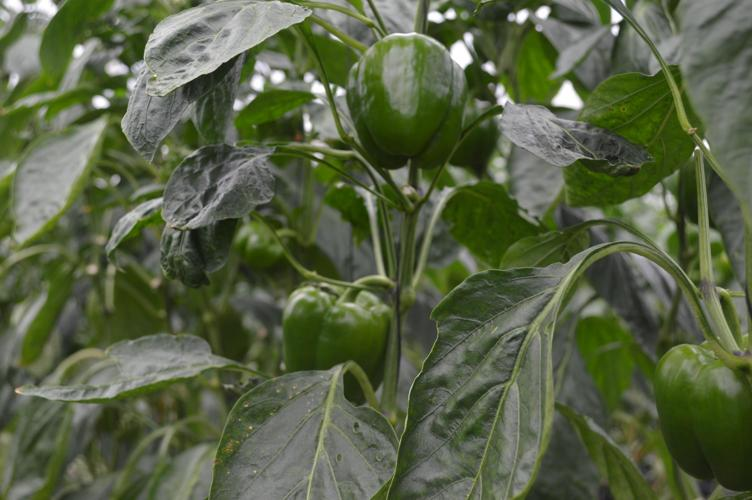BellPepper: (632, 316, 752, 494), (338, 28, 473, 180), (271, 272, 392, 394), (214, 206, 295, 273)
